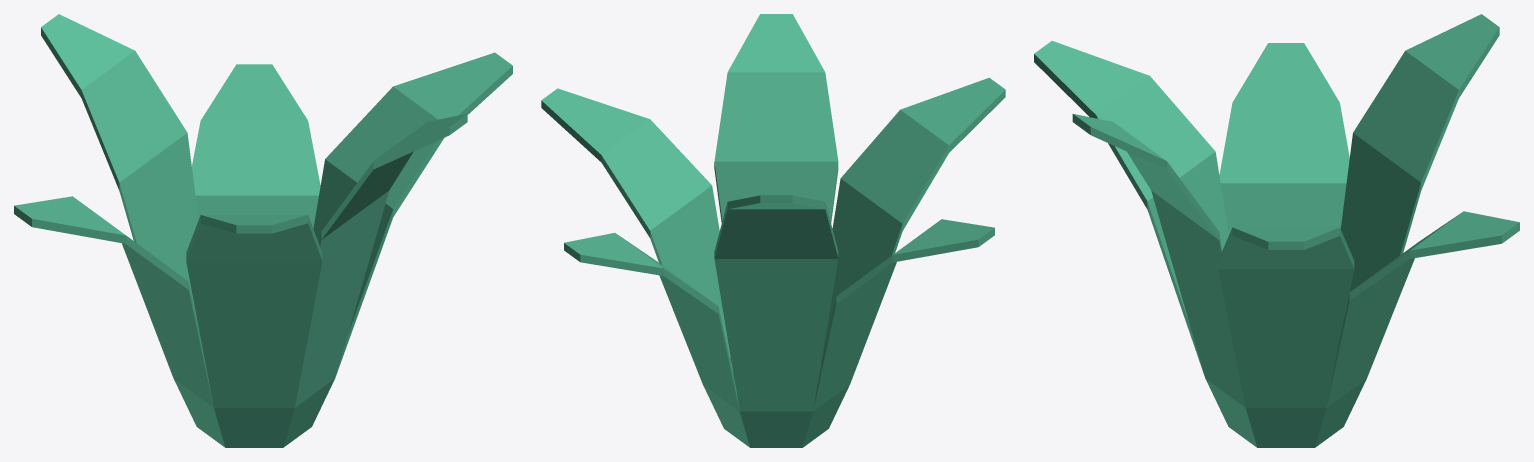
File: cornLeaf.obj
3 views of the same model, side by side, from view 1: azimuth 30°, elevation 25°; view 2: azimuth 150°, elevation 25°; view 3: azimuth 270°, elevation 25° (orthographic). The views are drawn at different scales.
Visible parts, largest first — view 1: corn; view 2: corn; view 3: corn.
Boxes of the visible parts, x1,y1,x2,y2 form: corn: (14, 14, 512, 447); corn: (541, 14, 1005, 447); corn: (1034, 14, 1519, 447).
Size of the model in its own units: 0.1716 by 0.1215 by 0.1501.
